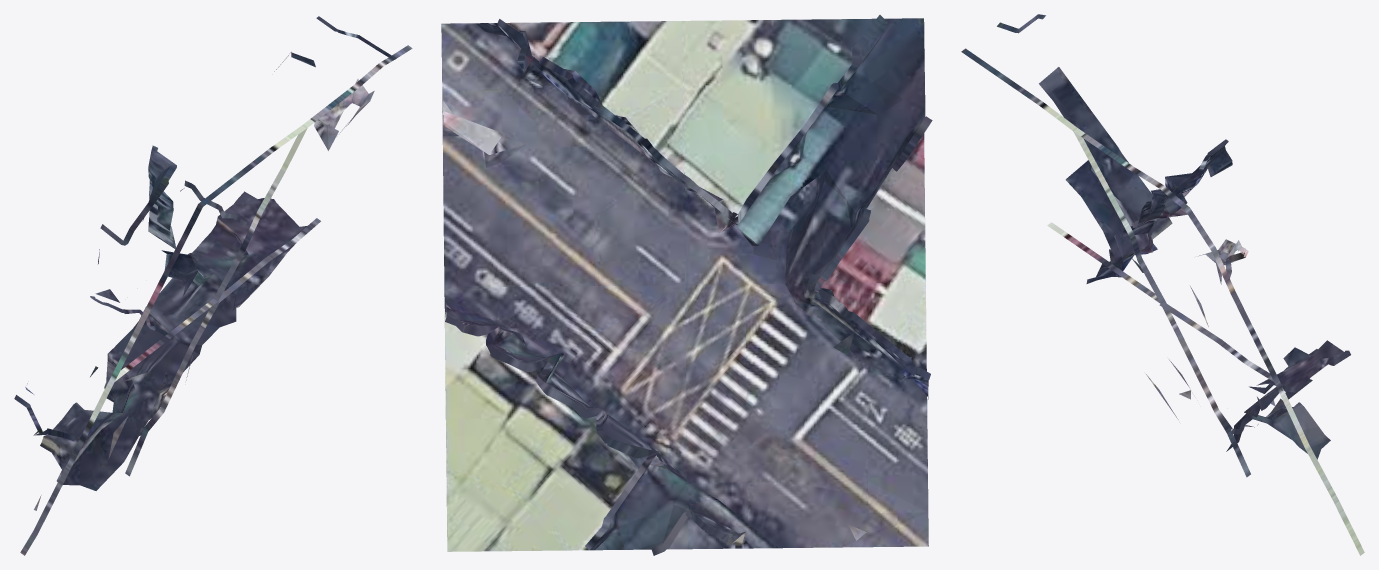
3 views of the same model, side by side, from view 1: azimuth 30°, elevation 25°; view 2: azimuth 150°, elevation 25°; view 3: azimuth 270°, elevation 25° (orthographic). The views are drawn at different scales.
Bounding box in the file's own units: 38.72 × 37.63 × 32.19.
1 material, 1 textured.
